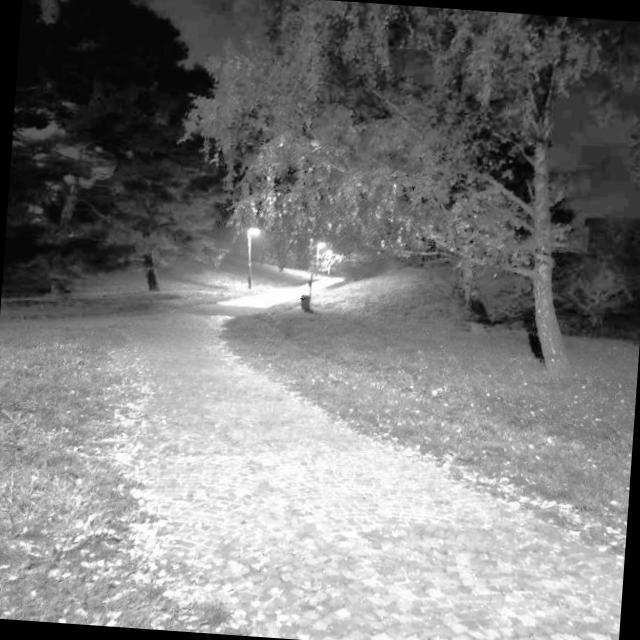Light: (242, 226, 259, 288), (312, 241, 326, 278), (322, 248, 336, 274)
Tree: (405, 31, 616, 388)
